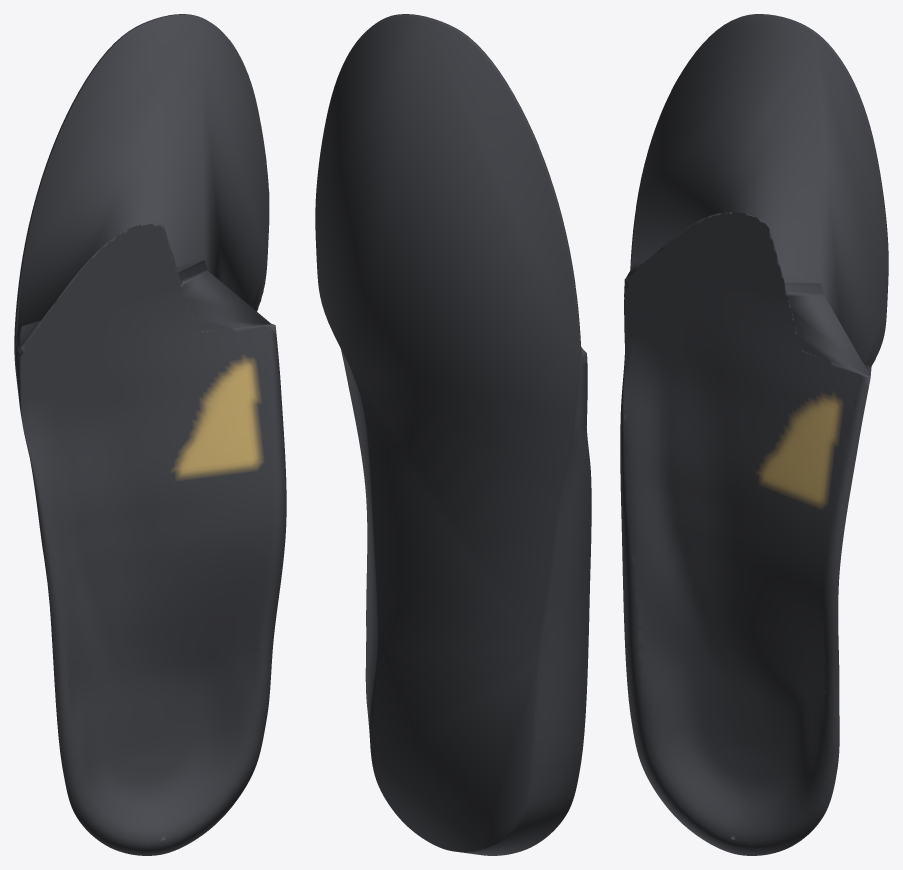
The model's file is SG-KINETIC-WEDGE_LEFT.glb.
The picture shows the model from 3 angles, left to right: view 1: azimuth 30°, elevation 25°; view 2: azimuth 150°, elevation 25°; view 3: azimuth 330°, elevation 25°; orthographic projection. The views are drawn at different scales.
Parts seen in each view (by area): view 1: kinetic_wedge.stl; view 2: kinetic_wedge.stl; view 3: kinetic_wedge.stl.
Boxes of the visible parts, x1=… form: kinetic_wedge.stl: x1=14, y1=14, x2=286, y2=855; kinetic_wedge.stl: x1=315, y1=14, x2=591, y2=855; kinetic_wedge.stl: x1=620, y1=14, x2=888, y2=855.
Bounding box in the file's own units: 99.44 × 304 × 22.83.
